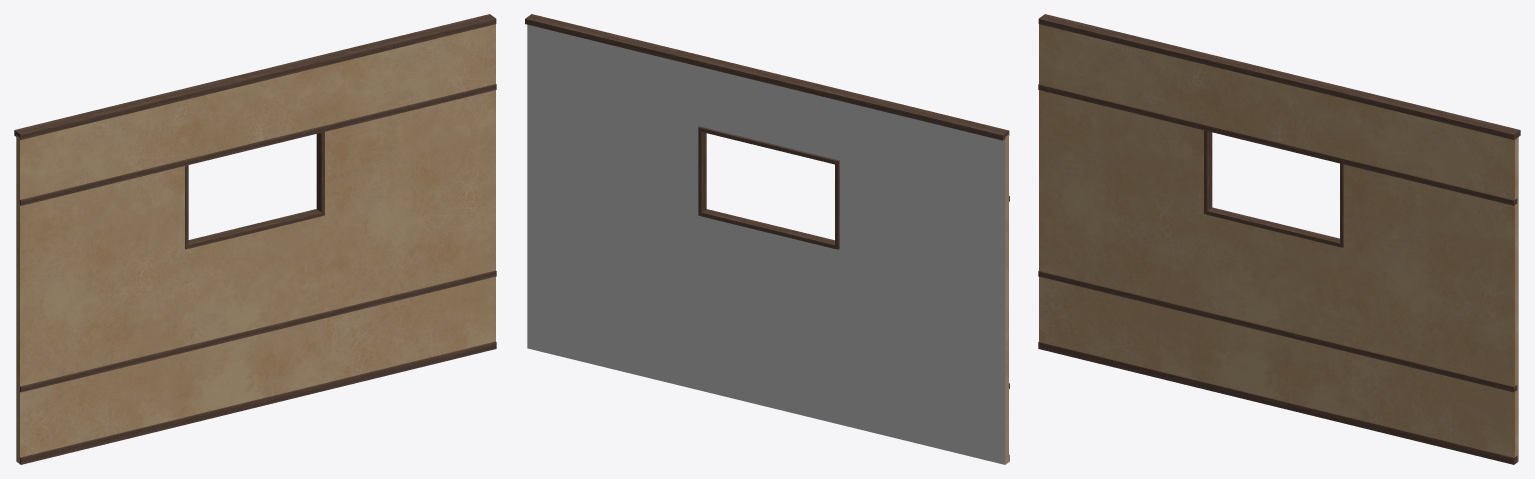
The model's file is jov_outwall01_2t.mado_a1.fbx.
3 renders of one model, left to right at view 1: azimuth 30°, elevation 25°; view 2: azimuth 150°, elevation 25°; view 3: azimuth 330°, elevation 25°, orthographic.
Visible parts, largest first — view 1: jov_outwall01_2t.mado_a1; view 2: jov_outwall01_2t.mado_a1; view 3: jov_outwall01_2t.mado_a1.
Part boxes in pixels (bbox=[...]): jov_outwall01_2t.mado_a1: bbox=[14, 14, 496, 464]; jov_outwall01_2t.mado_a1: bbox=[525, 14, 1009, 464]; jov_outwall01_2t.mado_a1: bbox=[1038, 14, 1520, 464].
Size of the model in its own units: 440 by 292 by 11.05.
